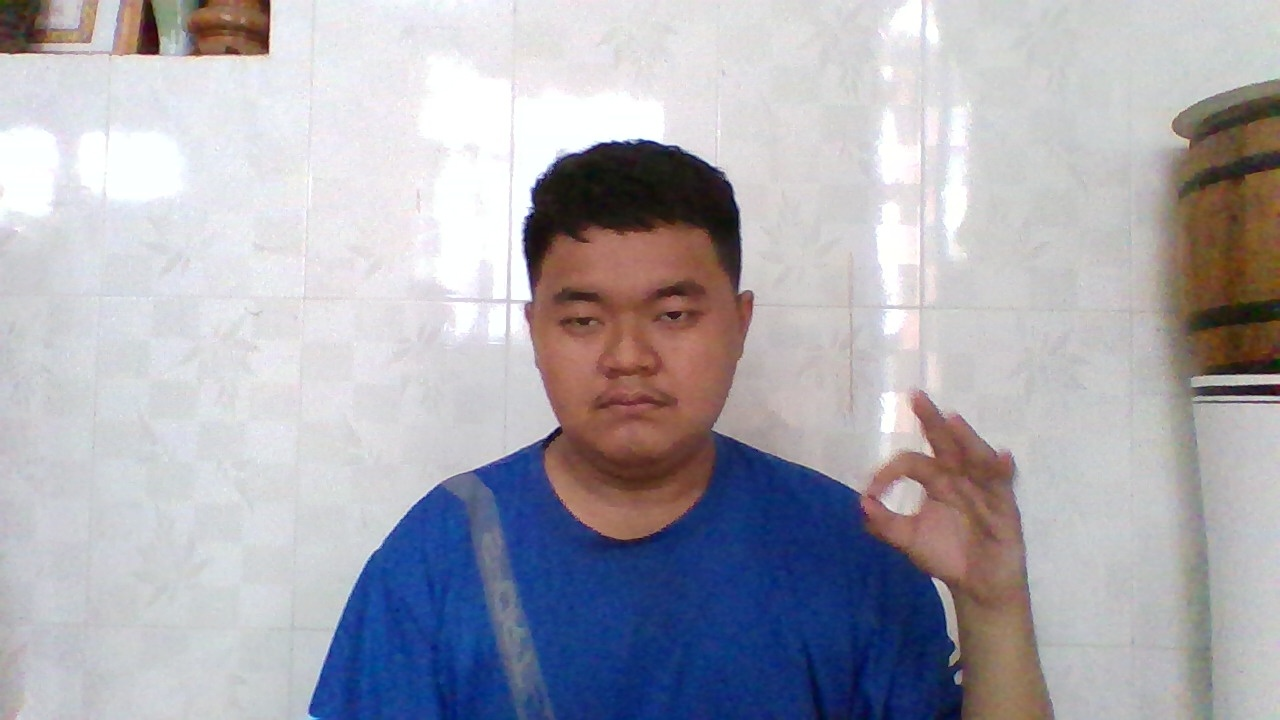T: (851, 380, 1020, 606)
